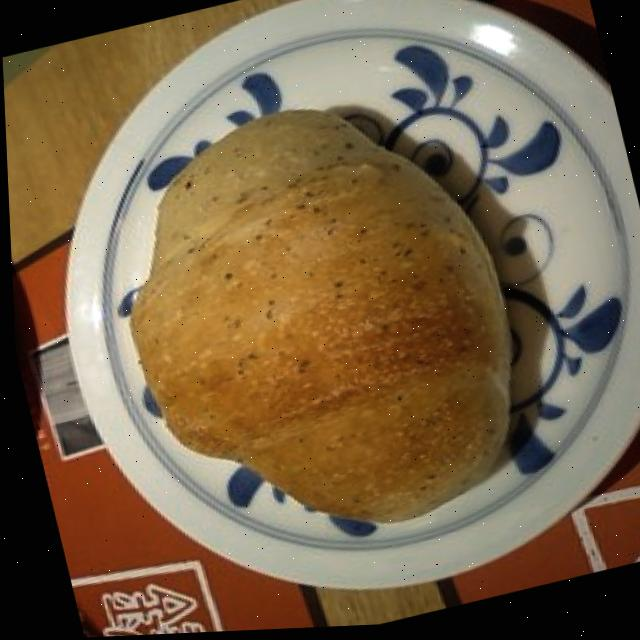面包点心: (78, 76, 550, 584)
